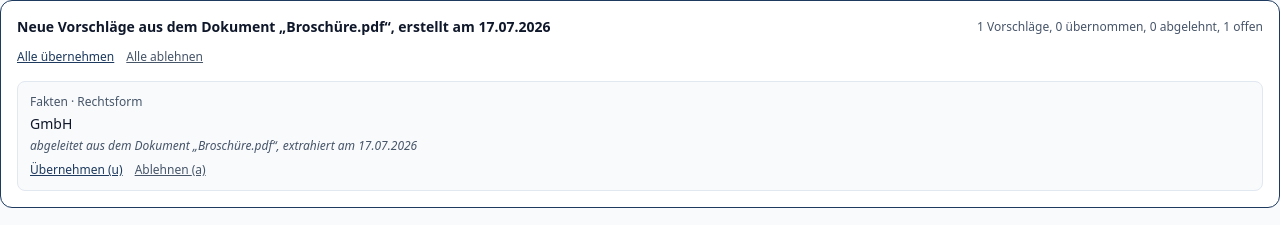
Scenario: VorschlaegePanel › 'Übernehmen' ruft uebernehmeVorschlagAction auf (schreibt als 'abgeleitet') und entfernt die Karte
What coordinates should you click on to do the following:
click the button with aria-label "Vorschlag übernehmen: Rechtsform"
I would click on:
 (76, 170)
Its box is [30,162,123,178].
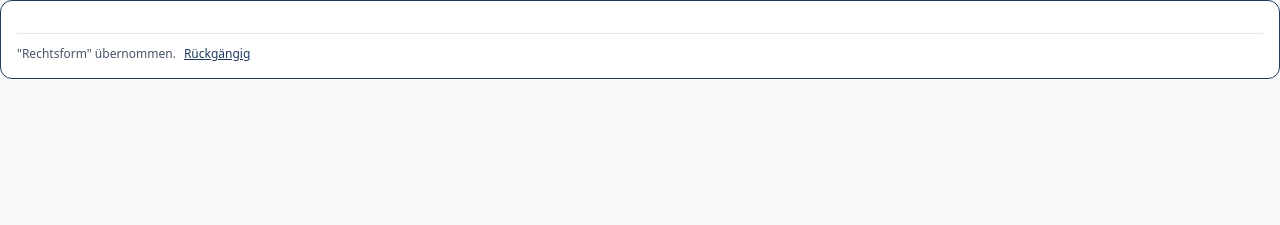
Now the text "GmbH" is gone
